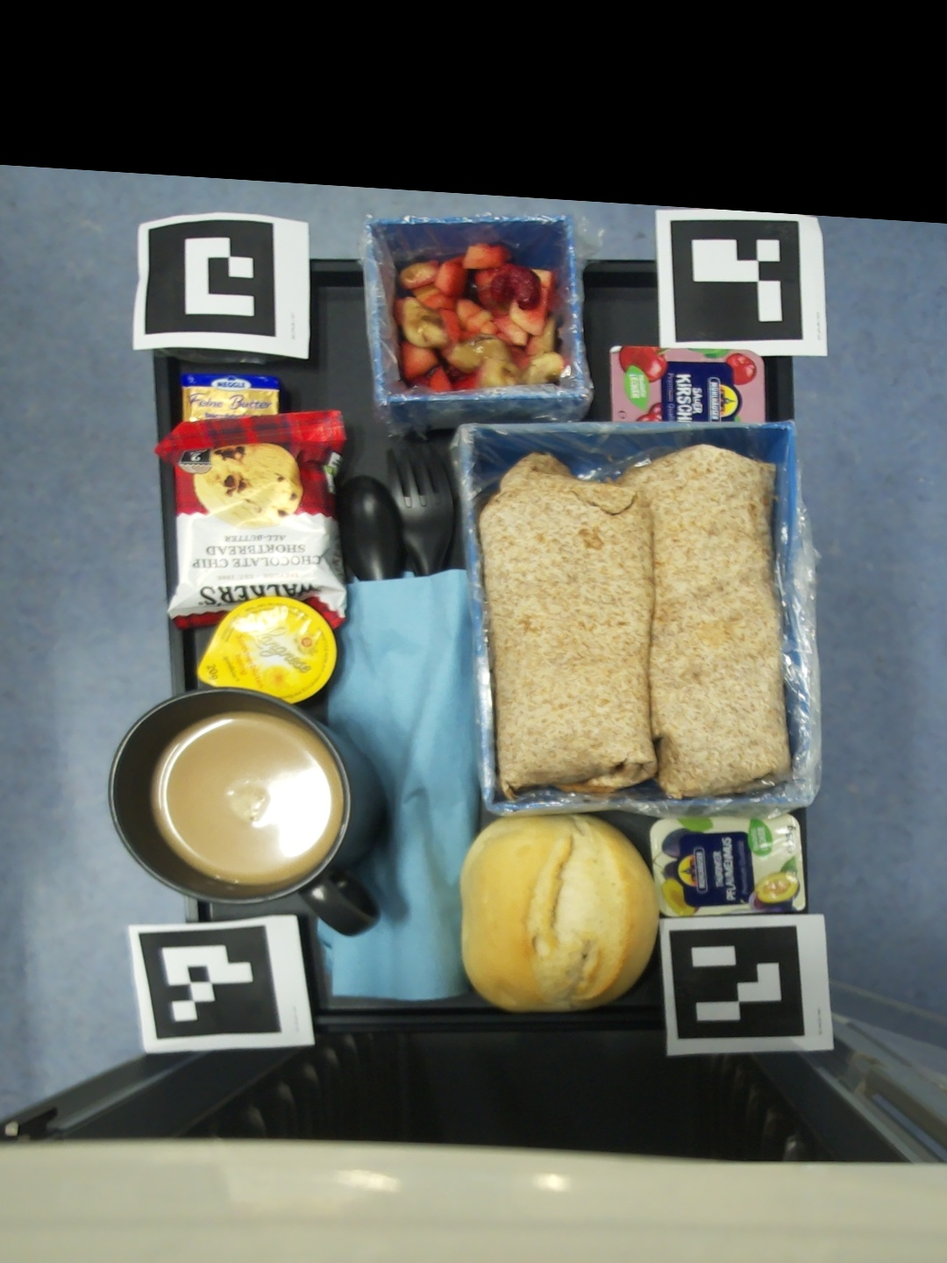bread_roll: (460, 814, 657, 1011)
butter: (182, 375, 280, 423)
cherry_jam: (609, 345, 765, 423)
coffee_cup: (109, 690, 385, 937)
cookie: (154, 411, 348, 631)
fruit_salad: (395, 241, 565, 391)
honey: (197, 597, 336, 704)
plum_jam: (648, 814, 805, 917)
wrap_half_1: (478, 453, 655, 799)
wrap_half_2: (613, 444, 788, 802)
